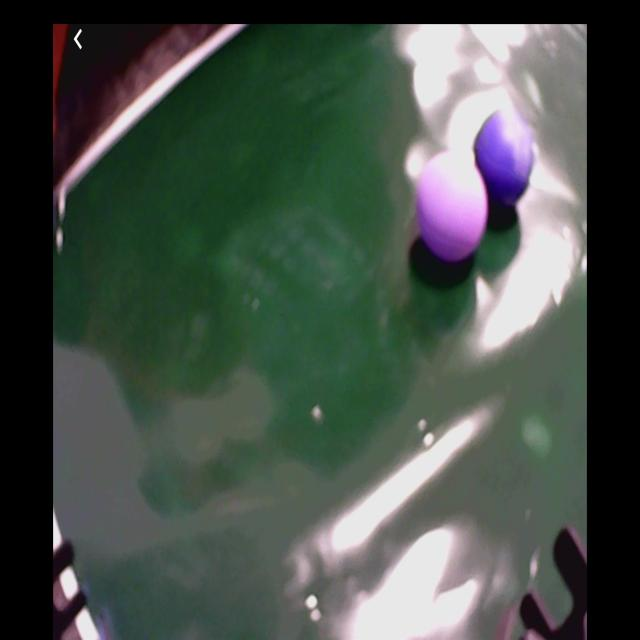ball: (417, 153, 490, 264), (475, 113, 534, 205)
